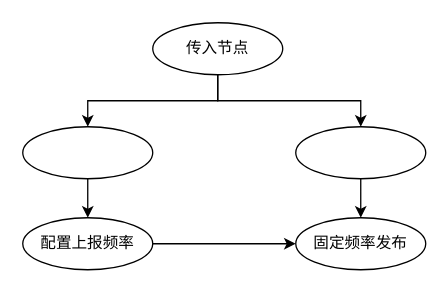
The diagram is 448 pixels wide and 293 high, and some of its shapes have lost their labels. Here are the shapes that lost their labels. From the top down, the centre of each, then its label:
At point 87,152: "定义发布消息".
At point 360,152: "配置定时器".
